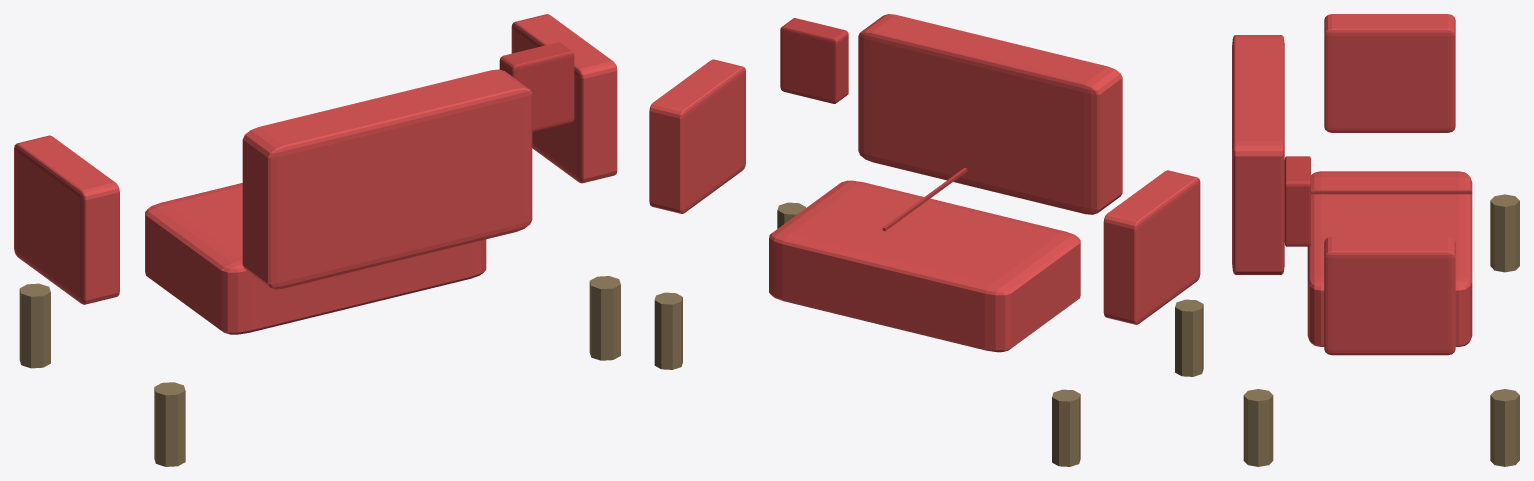
The model's file is red_sofa.fbx.
3 views of the same model, side by side, from view 1: azimuth 30°, elevation 25°; view 2: azimuth 150°, elevation 25°; view 3: azimuth 270°, elevation 25° (orthographic). The views are drawn at different scales.
Parts seen in each view (by area): view 1: Sofa_Back, Sofa_Seat, Sofa_Arm, Sofa_Arm.001, Sofa_Pillow, Sofa_Leg, Sofa_Leg.001, Sofa_Leg.002; view 2: Sofa_Back, Sofa_Seat, Sofa_Arm, Sofa_Arm.001, Sofa_Pillow, Sofa_Leg, Sofa_Leg.003, Sofa_Leg.002; view 3: Sofa_Arm.001, Sofa_Arm, Sofa_Seat, Sofa_Back, Sofa_Pillow, Sofa_Leg.001, Sofa_Leg.002, Sofa_Leg.003, Sofa_Div.
Boxes of the visible parts, box(x1,y1,x2,y2) form: Sofa_Back: box(242, 69, 532, 289); Sofa_Seat: box(145, 183, 486, 334); Sofa_Arm: box(14, 135, 119, 304); Sofa_Arm.001: box(511, 14, 617, 183); Sofa_Pillow: box(499, 42, 574, 132); Sofa_Leg: box(154, 382, 185, 466); Sofa_Leg.001: box(589, 276, 620, 360); Sofa_Leg.002: box(19, 283, 50, 368); Sofa_Back: box(858, 14, 1122, 214); Sofa_Seat: box(769, 180, 1080, 352); Sofa_Arm: box(1103, 170, 1200, 324); Sofa_Arm.001: box(649, 59, 745, 213); Sofa_Pillow: box(780, 18, 848, 103); Sofa_Leg: box(1175, 299, 1203, 376); Sofa_Leg.003: box(654, 292, 682, 369); Sofa_Leg.002: box(1052, 389, 1080, 466); Sofa_Arm.001: box(1324, 236, 1455, 355); Sofa_Arm: box(1324, 14, 1455, 132); Sofa_Seat: box(1307, 171, 1472, 346); Sofa_Back: box(1232, 35, 1284, 274); Sofa_Pillow: box(1284, 156, 1310, 246); Sofa_Leg.001: box(1243, 389, 1273, 466); Sofa_Leg.002: box(1490, 194, 1519, 272); Sofa_Leg.003: box(1490, 389, 1519, 466); Sofa_Div: box(1311, 190, 1472, 194).
Bounding box in the file's own units: 1.72 × 0.92 × 0.875.
